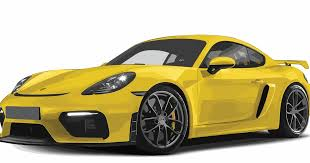car: (1, 26, 309, 155)
